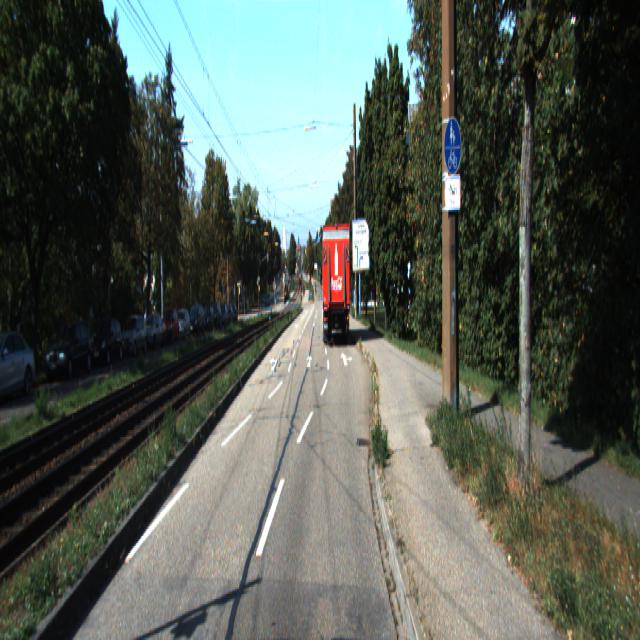Car: (321, 222, 352, 348), (45, 316, 96, 379), (0, 328, 39, 406), (90, 315, 124, 368), (119, 312, 148, 355), (139, 314, 166, 352), (160, 306, 180, 344), (173, 308, 190, 339)
